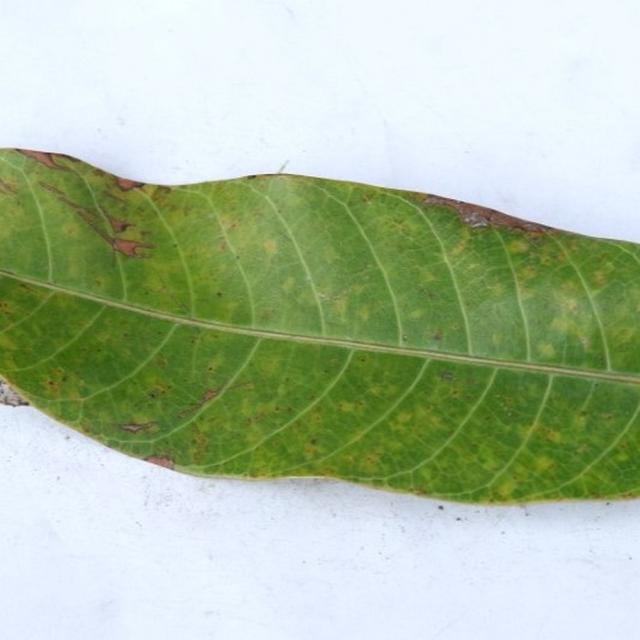Mango: (0, 148, 639, 507)
Powdery_Mildew: (536, 257, 636, 364), (13, 149, 81, 173), (529, 330, 566, 371), (383, 401, 427, 435), (205, 203, 241, 235), (41, 366, 76, 397), (109, 236, 156, 259), (498, 233, 540, 258), (547, 312, 583, 338), (243, 406, 285, 424), (314, 239, 343, 265), (8, 279, 47, 297), (38, 180, 73, 199), (112, 421, 159, 434), (106, 216, 134, 234), (142, 454, 175, 469), (174, 403, 203, 420), (0, 170, 19, 195), (496, 477, 518, 498), (114, 178, 147, 192), (145, 381, 170, 399), (204, 352, 227, 371), (190, 431, 209, 454), (516, 224, 548, 237), (417, 285, 440, 303), (586, 489, 623, 500), (422, 194, 453, 207), (332, 296, 349, 318), (198, 388, 220, 404), (390, 219, 413, 234), (517, 265, 538, 281), (280, 275, 296, 293), (101, 190, 125, 202), (356, 304, 371, 323), (336, 401, 358, 413), (262, 238, 278, 254), (592, 270, 608, 285), (407, 308, 426, 319), (153, 184, 172, 195), (259, 309, 275, 322), (360, 191, 377, 203), (545, 430, 561, 442), (363, 454, 379, 466), (302, 444, 316, 457), (154, 355, 168, 368), (216, 238, 229, 252), (176, 302, 190, 314), (619, 490, 638, 498), (439, 371, 454, 381), (0, 300, 12, 312), (432, 330, 443, 341), (599, 412, 614, 420), (81, 423, 92, 433), (414, 489, 428, 496), (140, 230, 152, 236), (148, 391, 157, 399), (47, 380, 56, 387), (310, 438, 317, 445), (358, 356, 366, 362), (207, 366, 214, 372), (216, 291, 222, 297), (365, 274, 371, 280)
